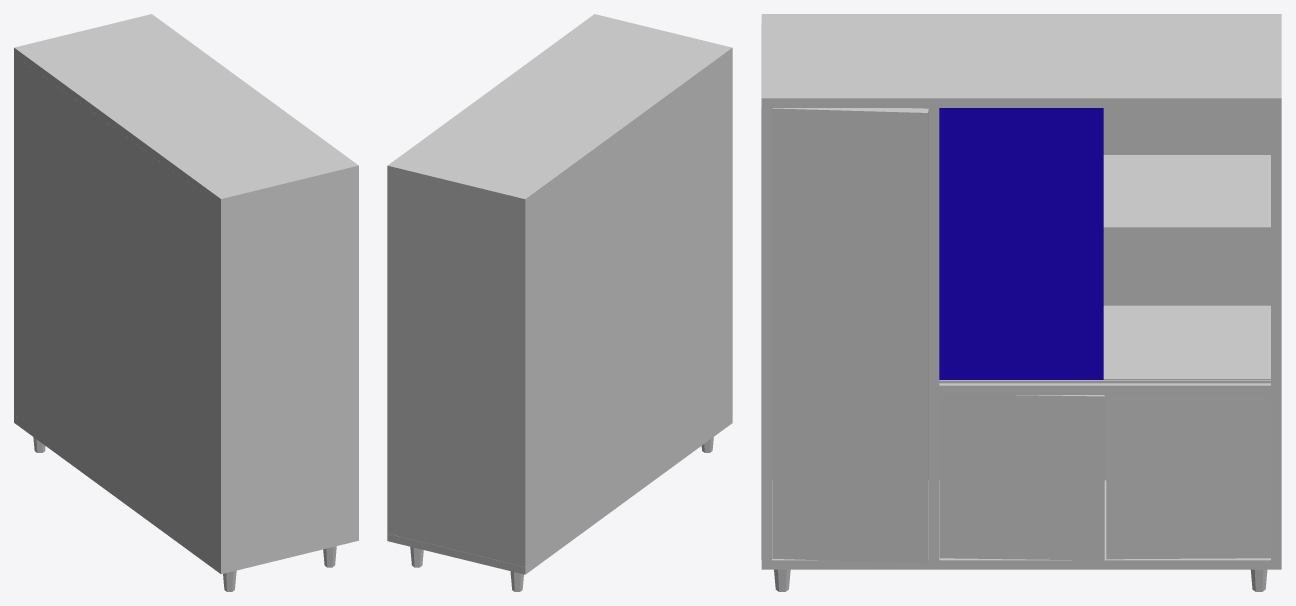
Rendered from wardrobe.fbx.
3 views of the same model, side by side, from view 1: azimuth 30°, elevation 25°; view 2: azimuth 150°, elevation 25°; view 3: azimuth 270°, elevation 25° (orthographic). The views are drawn at different scales.
Parts seen in each view (by area): view 1: Куб.021; view 2: Куб.021; view 3: Куб.021.
Boxes of the visible parts, x1,y1,x2,y2 form: Куб.021: [14, 14, 358, 591]; Куб.021: [387, 14, 732, 591]; Куб.021: [761, 14, 1281, 591].
Bounding box in the file's own units: 222 × 89.49 × 237.
